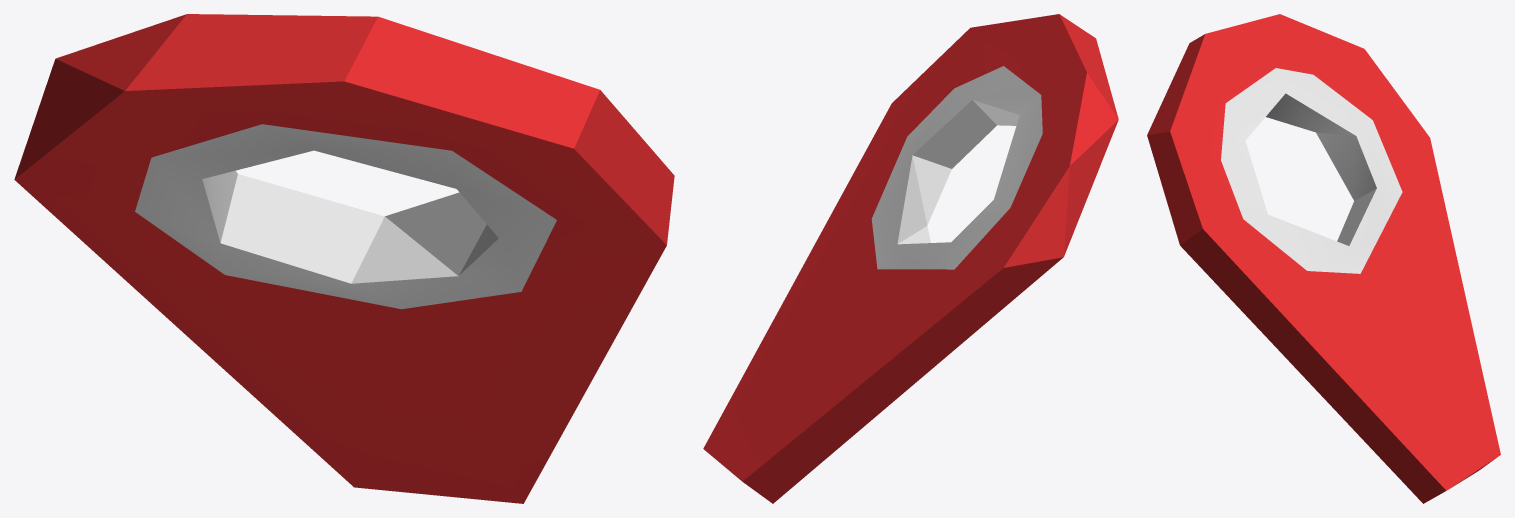
File: Pin_2_mobile.glb
3 renders of one model, left to right at view 1: azimuth 30°, elevation 25°; view 2: azimuth 150°, elevation 25°; view 3: azimuth 270°, elevation 25°, orthographic. The views are drawn at different scales.
Visible parts, largest first — view 1: Pin2movil; view 2: Pin2movil; view 3: Pin2movil.
Boxes of the visible parts, x1,y1,x2,y2 form: Pin2movil: [14, 14, 674, 503]; Pin2movil: [703, 14, 1118, 503]; Pin2movil: [1147, 14, 1500, 503].
Bounding box in the file's own units: 0.0605 × 0.073 × 0.0616.
